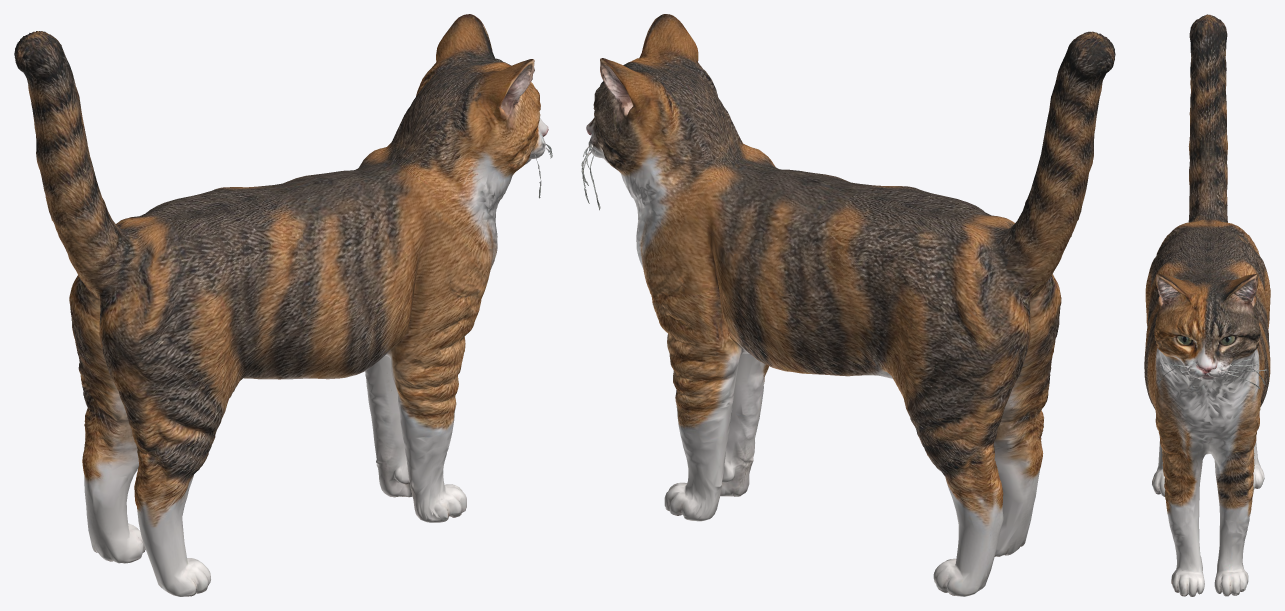
The model's file is KIKUCHAN.glb.
3 renders of one model, left to right at view 1: azimuth 30°, elevation 25°; view 2: azimuth 150°, elevation 25°; view 3: azimuth 270°, elevation 25°, orthographic. The views are drawn at different scales.
Visible parts, largest first — view 1: tripo_node_0c815f29-cfa9-4fcc-a8cf-2dfec9cfd8dc; view 2: tripo_node_0c815f29-cfa9-4fcc-a8cf-2dfec9cfd8dc; view 3: tripo_node_0c815f29-cfa9-4fcc-a8cf-2dfec9cfd8dc.
Boxes of the visible parts, x1,y1,x2,y2 form: tripo_node_0c815f29-cfa9-4fcc-a8cf-2dfec9cfd8dc: (14,14,552,596); tripo_node_0c815f29-cfa9-4fcc-a8cf-2dfec9cfd8dc: (581,14,1115,596); tripo_node_0c815f29-cfa9-4fcc-a8cf-2dfec9cfd8dc: (1144,14,1270,596).
Bounding box in the file's own units: 0.9755 × 1 × 0.2661.
Materials: 1 (1 with a texture image).
